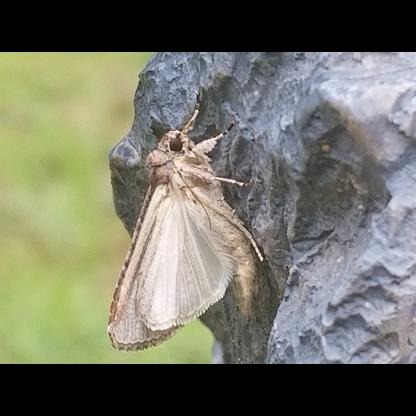Fall Armyworm Moth: (102, 87, 268, 356)
